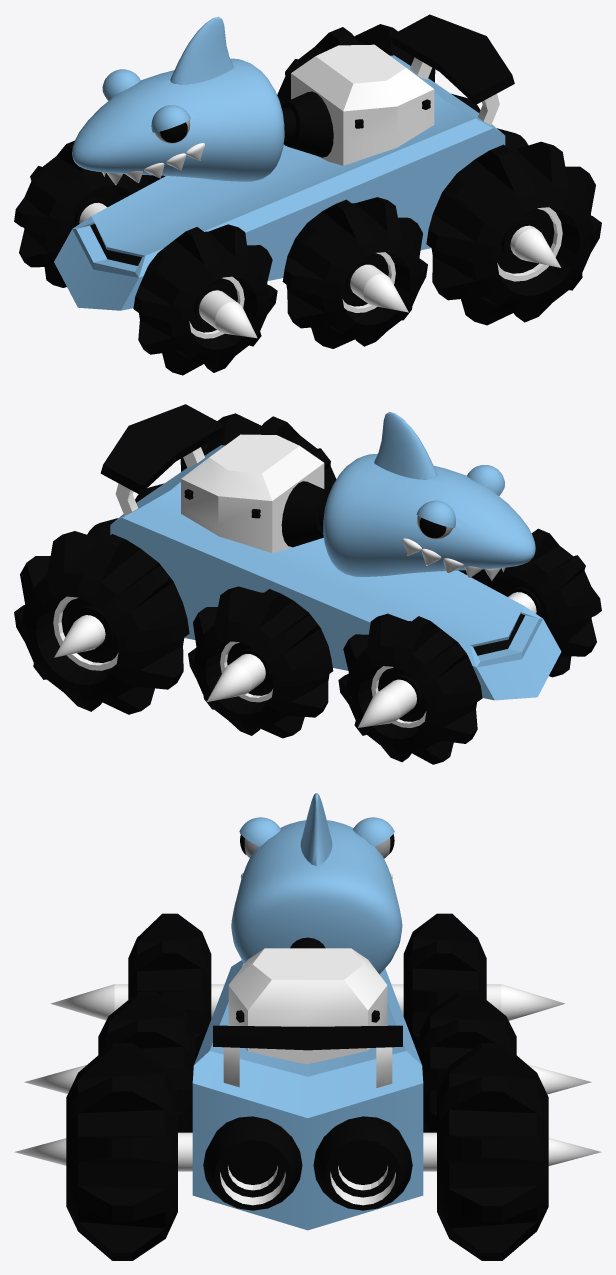
Rendered from Kart_Shark.fbx.
The picture shows the model from 3 angles, top to bottom: view 1: azimuth 30°, elevation 25°; view 2: azimuth 150°, elevation 25°; view 3: azimuth 270°, elevation 25°; orthographic projection. The views are drawn at different scales.
Parts seen in each view (by area): view 1: Kart_Shark, polySurface14, pSphere8, polySurface4, polySurface7, polySurface9, polySurface8, polySurface12, polySurface1, polySurface15, polySurface23, polySurface22 (+1 smaller); view 2: Kart_Shark, polySurface15, pSphere8, polySurface5, polySurface8, polySurface9, polySurface7, polySurface12, polySurface1, polySurface14, polySurface23, polySurface22 (+1 smaller); view 3: Kart_Shark, polySurface15, polySurface14, pSphere8, polySurface9, polySurface3, polySurface2, polySurface7, polySurface8, polySurface4, polySurface5, polySurface12 (+3 smaller).
Boxes of the visible parts, x1,y1,x2,y2 form: Kart_Shark: (54,55,505,310); polySurface14: (426,141,601,325); pSphere8: (72,16,284,181); polySurface4: (282,197,427,348); polySurface7: (133,224,277,375); polySurface9: (291,44,434,165); polySurface8: (14,140,152,287); polySurface12: (390,14,514,125); polySurface1: (281,91,333,157); polySurface15: (277,24,435,104); polySurface23: (79,202,257,338); polySurface22: (350,264,408,312); Kart_Shark: (110,445,561,700); polySurface15: (14,531,189,714); pSphere8: (323,412,535,576); polySurface5: (188,586,333,738); polySurface8: (338,613,482,764); polySurface9: (181,434,324,553); polySurface7: (463,528,601,677); polySurface12: (100,404,224,515); polySurface1: (281,481,329,547); polySurface14: (180,413,336,491); polySurface23: (358,592,536,727); polySurface22: (207,654,265,701); Kart_Shark: (192,960,423,1230); polySurface15: (437,1043,548,1260); polySurface14: (66,1043,177,1260); pSphere8: (231,793,402,974); polySurface9: (228,948,387,1063); polySurface3: (313,1116,412,1210); polySurface2: (203,1116,302,1210); polySurface7: (128,913,211,1060); polySurface8: (403,913,486,1058); polySurface4: (98,992,195,1132); polySurface5: (419,992,516,1132); polySurface12: (213,1025,402,1087).
Size of the model in its own units: 7.89 by 5.03 by 7.94.
